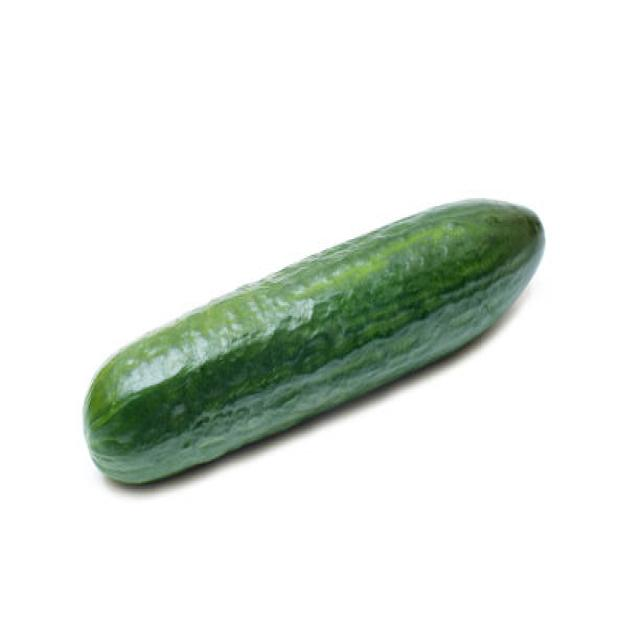cucumber: (83, 198, 546, 483)
